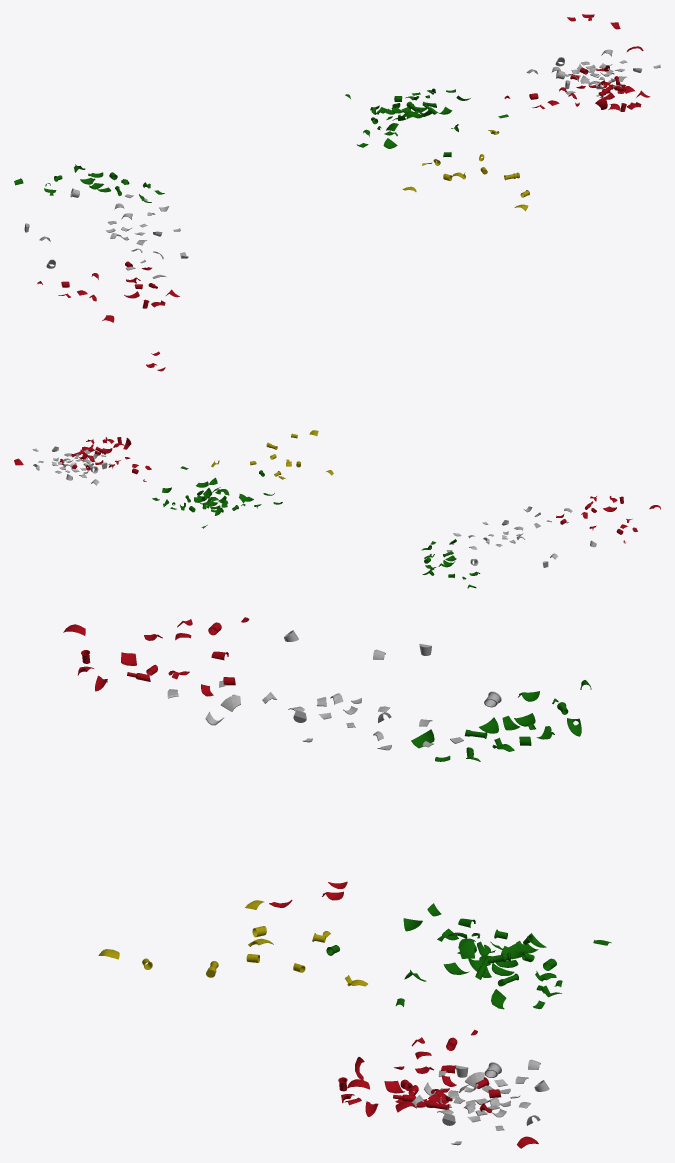
Rendered from Fracturesss.FBX.
3 renders of one model, top to bottom at view 1: azimuth 30°, elevation 25°; view 2: azimuth 150°, elevation 25°; view 3: azimuth 270°, elevation 25°, orthographic. The views are drawn at different scales.
Parts seen in each view (by area): view 1: Fra_Green, Fra_White, Fra_Red2, Fra_Red, Fra_Yellow; view 2: Fra_Green, Fra_White, Fra_Red2, Fra_Red, Fra_Yellow; view 3: Fra_Green, Fra_White, Fra_Red2, Fra_Red, Fra_Yellow.
Boxes of the visible parts, box(x1,y1,x2,y2) form: Fra_Green: box(14, 88, 508, 202); Fra_White: box(24, 49, 660, 278); Fra_Red2: box(504, 14, 650, 111); Fra_Red: box(37, 261, 179, 322); Fra_Yellow: box(402, 130, 529, 211); Fra_Green: box(152, 466, 480, 588); Fra_White: box(32, 446, 596, 567); Fra_Red2: box(14, 351, 165, 481); Fra_Red: box(556, 496, 660, 543); Fra_Yellow: box(211, 430, 333, 479); Fra_Green: box(326, 680, 611, 1009); Fra_White: box(167, 630, 549, 1145); Fra_Red2: box(269, 881, 538, 1148); Fra_Red: box(63, 617, 249, 696); Fra_Yellow: box(98, 900, 367, 986).
Size of the model in its own units: 12095 by 1798 by 5291.
